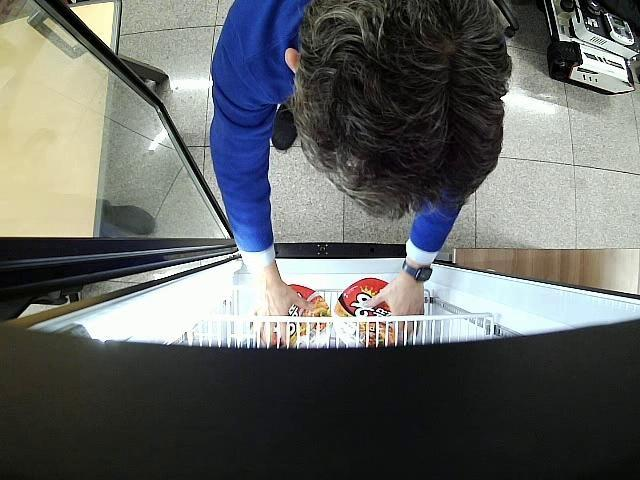10_wangTtukkeong: (262, 284, 332, 348), (332, 278, 393, 346)
